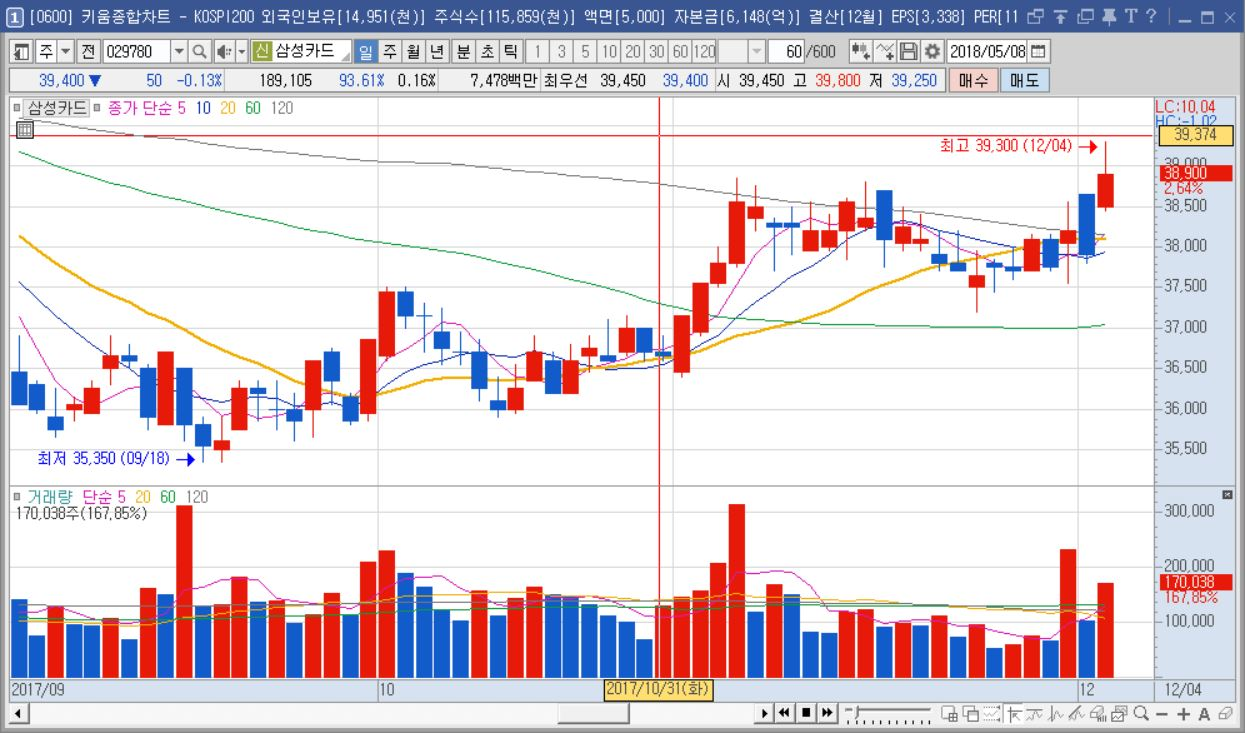up: (673, 123, 1117, 673)
